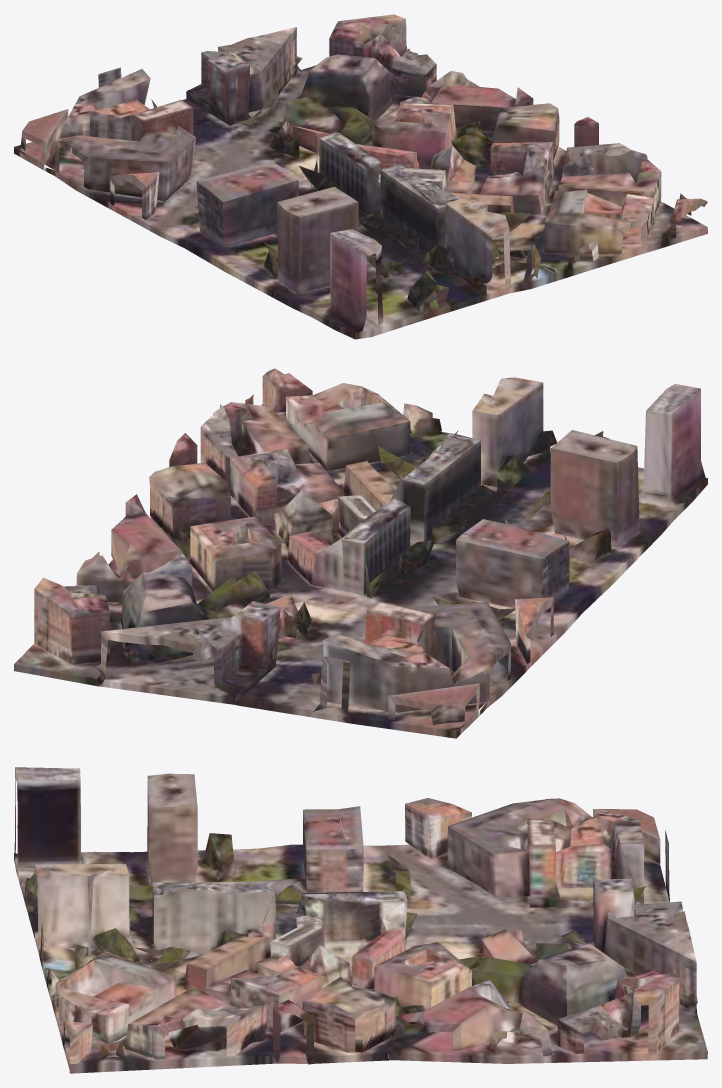
The picture shows the model from 3 angles, top to bottom: view 1: azimuth 30°, elevation 25°; view 2: azimuth 150°, elevation 25°; view 3: azimuth 270°, elevation 25°; orthographic projection. The views are drawn at different scales.
Visible parts, largest first — view 1: Mesh_0; view 2: Mesh_0; view 3: Mesh_0.
Boxes of the visible parts, box(x1,y1,x2,y2) form: Mesh_0: box(14, 14, 707, 339); Mesh_0: box(14, 368, 707, 738); Mesh_0: box(14, 767, 707, 1073).
Bounding box in the file's own units: 266 × 63.11 × 330.
2 materials, 2 textured.
